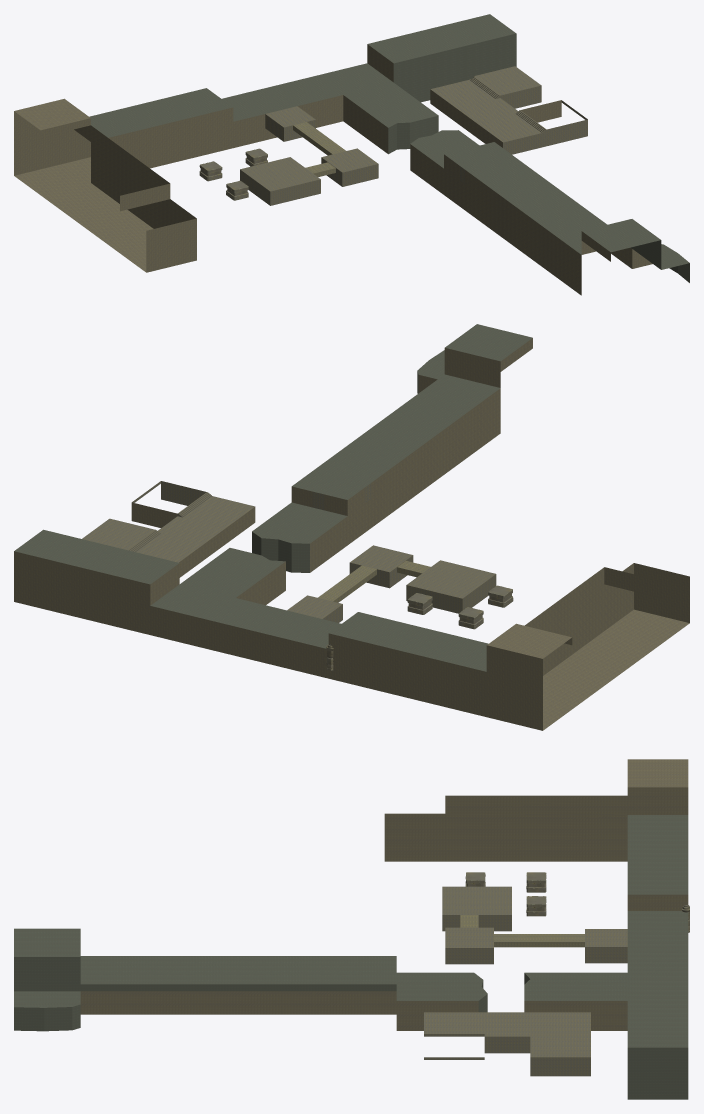
The model's file is Fortress_Section_2_Test.fbx.
3 views of the same model, one above another, from view 1: azimuth 30°, elevation 25°; view 2: azimuth 150°, elevation 25°; view 3: azimuth 270°, elevation 25° (orthographic). The views are drawn at different scales.
Parts seen in each view (by area): view 1: WallRompLevel, Section2EndLevel, ResidentialZoneLevel_1, WalkwaysPlatform1, WalkwaysPlatform2, WalkwayPlatform3, ResidentialZoneLevel_detach_1, Section2EndLevel_detach, Bridge_5; view 2: WallRompLevel, Section2EndLevel, ResidentialZoneLevel_1, WalkwaysPlatform1, WalkwaysPlatform2, ResidentialZoneLevel_detach_1, WalkwayPlatform3, Bridge_5, Section2EndLevel_detach; view 3: WallRompLevel, Section2EndLevel, ResidentialZoneLevel_1, WalkwaysPlatform1, Section2EndLevel_detach, WalkwaysPlatform2, WalkwayPlatform3, ResidentialZoneLevel_detach_1, Bridge_5.
Part boxes in pixels (x1,y1,x2,y2): WallRompLevel: (14, 14, 516, 272); Section2EndLevel: (410, 130, 661, 295); ResidentialZoneLevel_1: (430, 76, 587, 154); WalkwaysPlatform1: (240, 157, 320, 205); WalkwaysPlatform2: (321, 148, 378, 186); WalkwayPlatform3: (265, 106, 315, 141); ResidentialZoneLevel_detach_1: (474, 66, 541, 95); Section2EndLevel_detach: (632, 244, 689, 282); Bridge_5: (293, 122, 345, 155); WallRompLevel: (14, 529, 689, 730); Section2EndLevel: (252, 324, 532, 572); ResidentialZoneLevel_1: (131, 481, 255, 577); WalkwaysPlatform1: (406, 560, 496, 613); WalkwaysPlatform2: (349, 545, 413, 588); ResidentialZoneLevel_detach_1: (82, 518, 154, 549); WalkwayPlatform3: (287, 595, 342, 622); Bridge_5: (318, 565, 376, 602); Section2EndLevel_detach: (417, 350, 444, 393); WallRompLevel: (384, 759, 688, 1099); Section2EndLevel: (14, 928, 487, 1030); ResidentialZoneLevel_1: (424, 1012, 590, 1076); WalkwaysPlatform1: (442, 886, 511, 931); Section2EndLevel_detach: (14, 991, 80, 1031); WalkwaysPlatform2: (445, 927, 493, 964); WalkwayPlatform3: (585, 929, 627, 963); ResidentialZoneLevel_detach_1: (530, 1034, 590, 1057); Bridge_5: (494, 934, 584, 947).
Bounding box in the file's own units: 10375 × 1350 × 11129.
